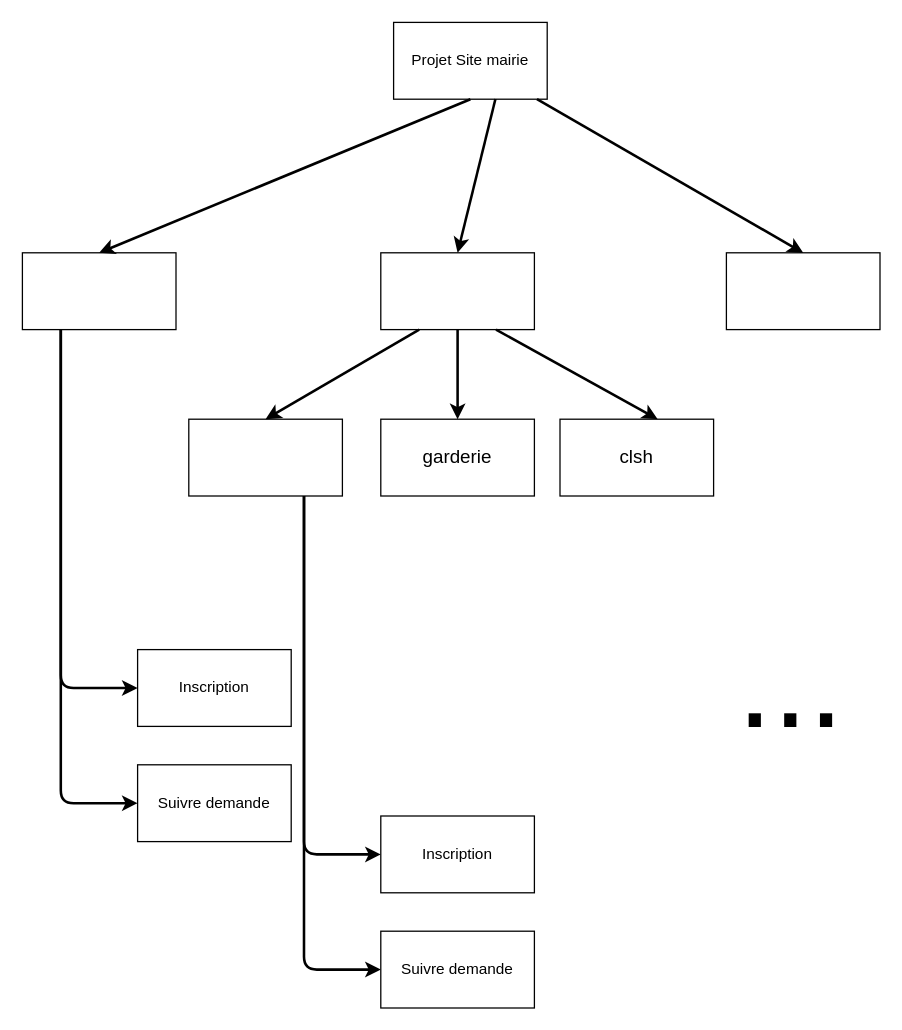
Some shapes in this 902 by 1030 pixel diagram are drawn without their labels. Here are the shapes that lost their labels. From the top down, the box of each, then its label:
(21, 252, 176, 330): démarches administratives
(380, 252, 534, 330): , inscriptions école
(725, 252, 880, 330): prise de rendez-vous
(188, 418, 342, 496): cantine
